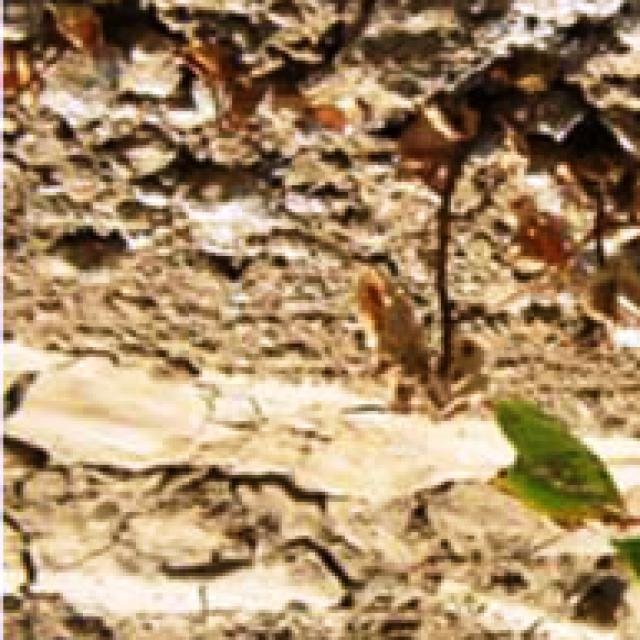Fusarium Wilt: (302, 54, 640, 573)
